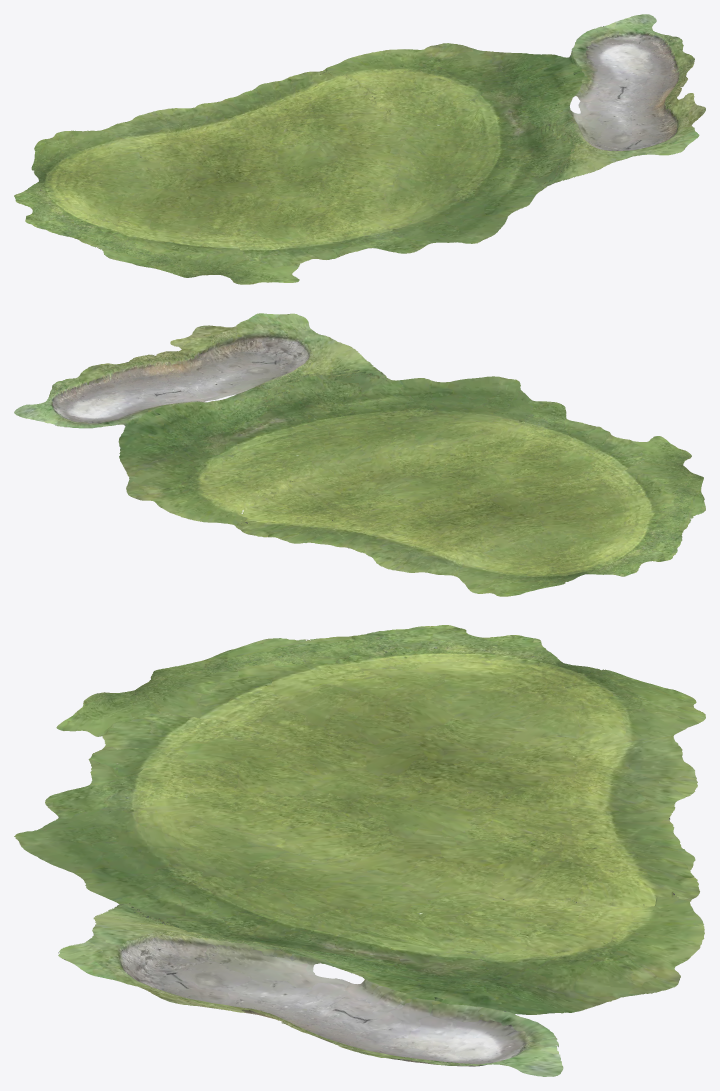
File: land.glb
The picture shows the model from 3 angles, top to bottom: view 1: azimuth 30°, elevation 25°; view 2: azimuth 150°, elevation 25°; view 3: azimuth 270°, elevation 25°; orthographic projection. The views are drawn at different scales.
Parts seen in each view (by area): view 1: Object_2; view 2: Object_2; view 3: Object_2.
Part boxes in pixels (x1=…): Object_2: x1=14, y1=14, x2=705, y2=284; Object_2: x1=14, y1=313, x2=705, y2=596; Object_2: x1=14, y1=625, x2=705, y2=1076.
Bounding box in the file's own units: 30 × 1.75 × 18.14.
Materials: 1 (1 with a texture image).
